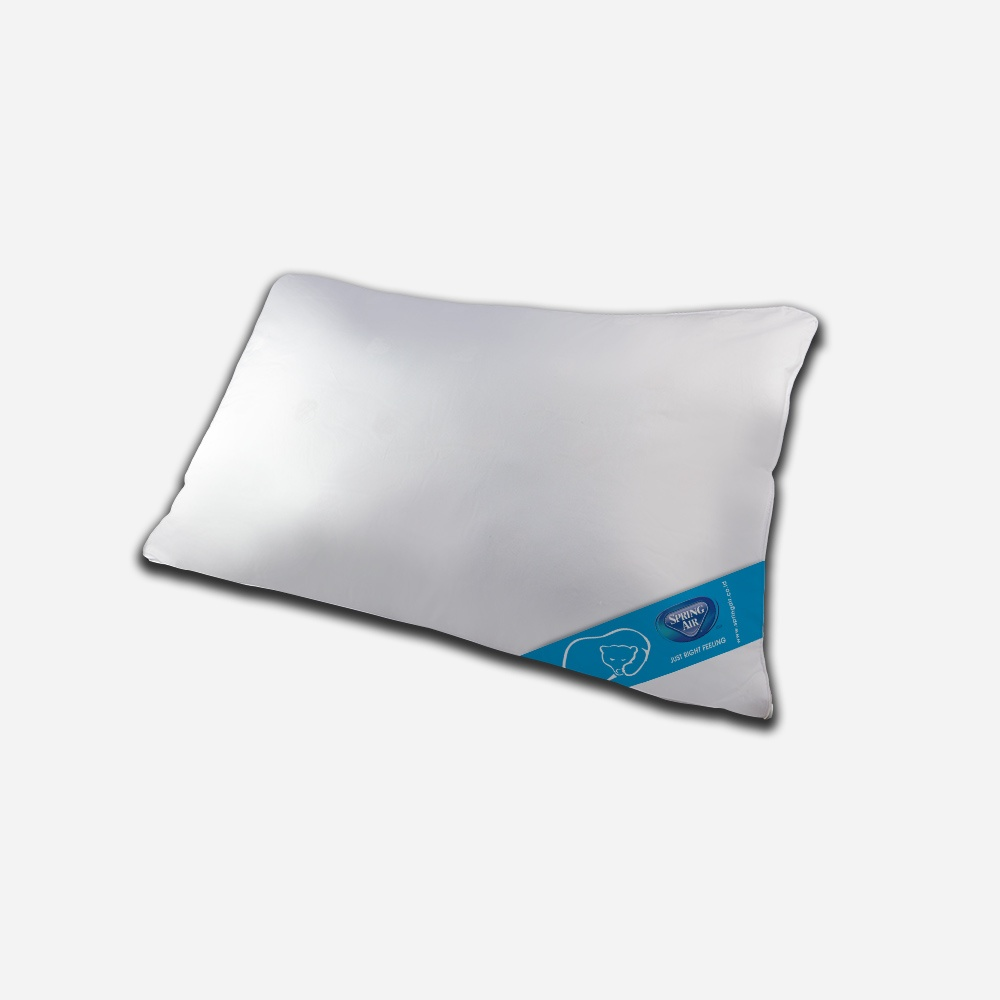bantal: (108, 249, 896, 748)
